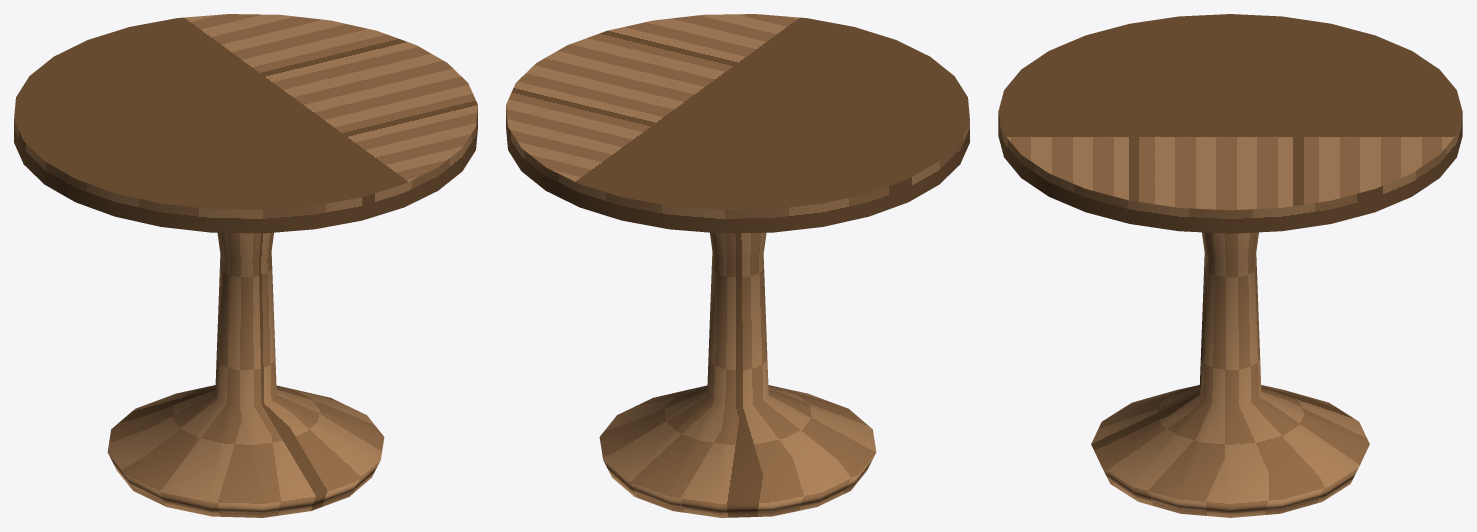
The model's file is table_round.glb.
3 renders of one model, left to right at view 1: azimuth 30°, elevation 25°; view 2: azimuth 150°, elevation 25°; view 3: azimuth 270°, elevation 25°, orthographic.
Parts seen in each view (by area): view 1: dyn_wood_variant; view 2: dyn_wood_variant; view 3: dyn_wood_variant.
Part boxes in pixels (x1=…): dyn_wood_variant: x1=14, y1=14, x2=477, y2=517; dyn_wood_variant: x1=506, y1=14, x2=969, y2=517; dyn_wood_variant: x1=998, y1=14, x2=1462, y2=517.
Size of the model in its own units: 0.9002 by 0.7502 by 0.9002.
Materials: 1 (1 with a texture image).
